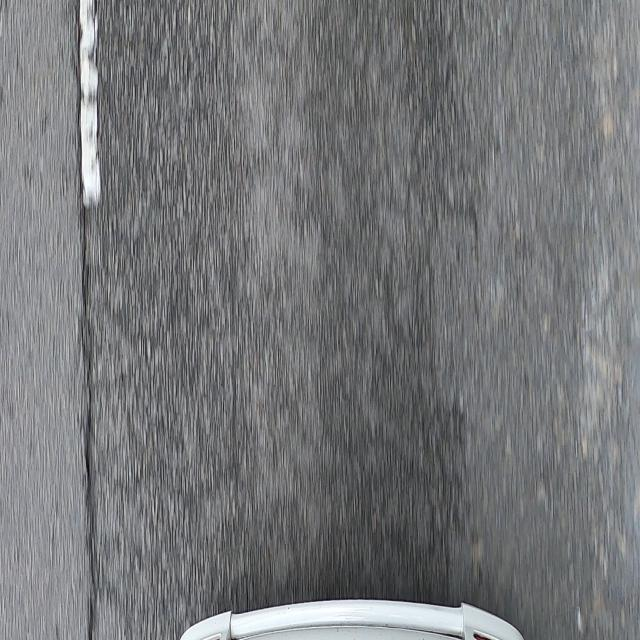Retak-Memanjang: (75, 0, 96, 640)
